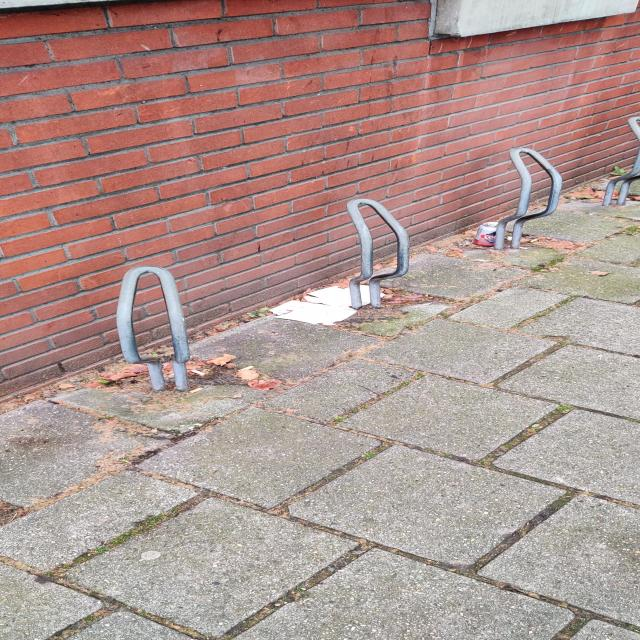litter: (261, 279, 394, 329)
